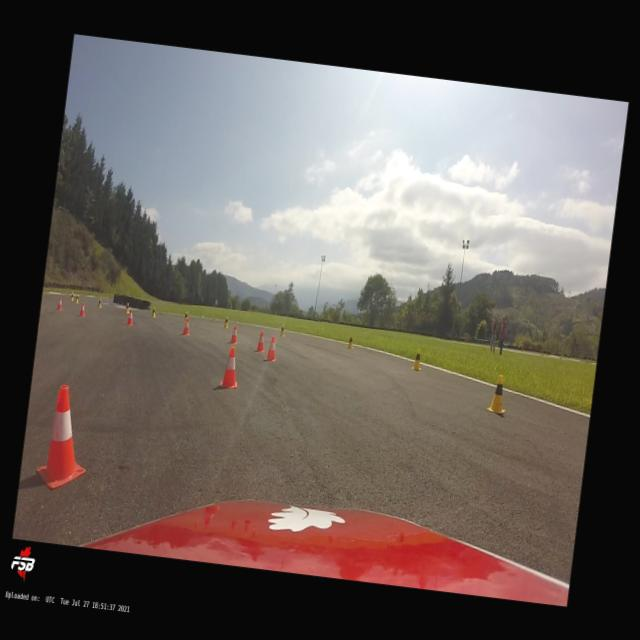orange_cone: (34, 382, 94, 492), (218, 346, 242, 389), (264, 334, 280, 362), (254, 330, 267, 352), (228, 324, 239, 344), (181, 316, 191, 336), (126, 308, 134, 326), (78, 301, 86, 317), (56, 296, 64, 310)
yellow_cone: (484, 373, 510, 414), (410, 348, 424, 370), (346, 334, 354, 350), (278, 323, 286, 337), (222, 316, 229, 329), (124, 302, 130, 314), (150, 306, 156, 318), (97, 297, 103, 308), (183, 309, 188, 320), (75, 294, 80, 304), (70, 292, 75, 301)
